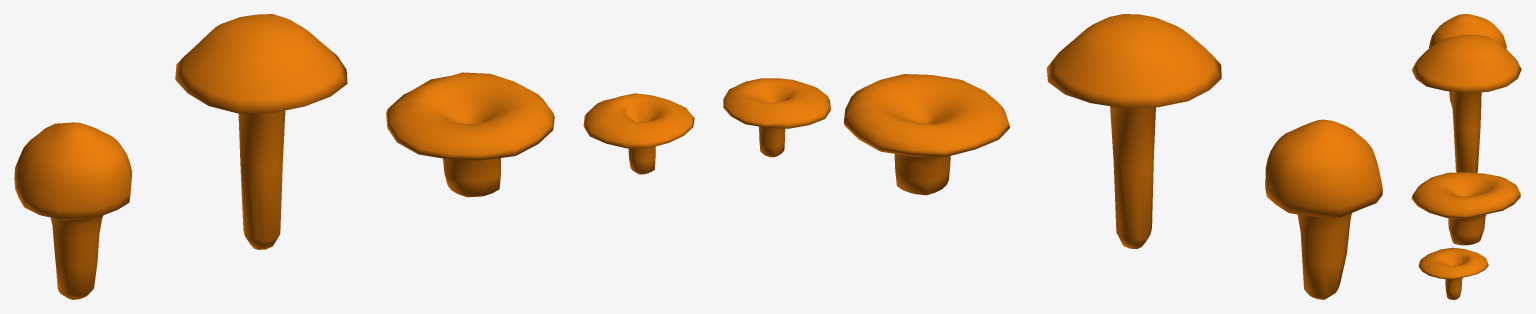
Rendered from Bolet_Set_Final_1.fbx.
3 views of the same model, side by side, from view 1: azimuth 30°, elevation 25°; view 2: azimuth 150°, elevation 25°; view 3: azimuth 270°, elevation 25° (orthographic). The views are drawn at different scales.
Visible parts, largest first — view 1: Bolet_Amanita_Big, Bolet_Rovelló_Big, Bolet_Amanita_Medium, Bolet_Rovelló_Medium; view 2: Bolet_Amanita_Big, Bolet_Amanita_Medium, Bolet_Rovelló_Big, Bolet_Rovelló_Medium; view 3: Bolet_Amanita_Big, Bolet_Rovelló_Big, Bolet_Rovelló_Medium, Bolet_Amanita_Medium.
Boxes of the visible parts, x1,y1,x2,y2 form: Bolet_Amanita_Big: (175, 14, 347, 249); Bolet_Rovelló_Big: (386, 72, 554, 197); Bolet_Amanita_Medium: (14, 107, 625, 299); Bolet_Rovelló_Medium: (583, 93, 694, 174); Bolet_Amanita_Big: (1046, 14, 1221, 248); Bolet_Amanita_Medium: (1265, 119, 1382, 299); Bolet_Rovelló_Big: (843, 74, 1009, 195); Bolet_Rovelló_Medium: (723, 78, 830, 157); Bolet_Amanita_Big: (1412, 34, 1521, 172); Bolet_Rovelló_Big: (1411, 172, 1520, 245); Bolet_Rovelló_Medium: (1418, 247, 1488, 299); Bolet_Amanita_Medium: (1429, 14, 1506, 283).
Bounding box in the file's own units: 93.09 × 31.37 × 21.56.
